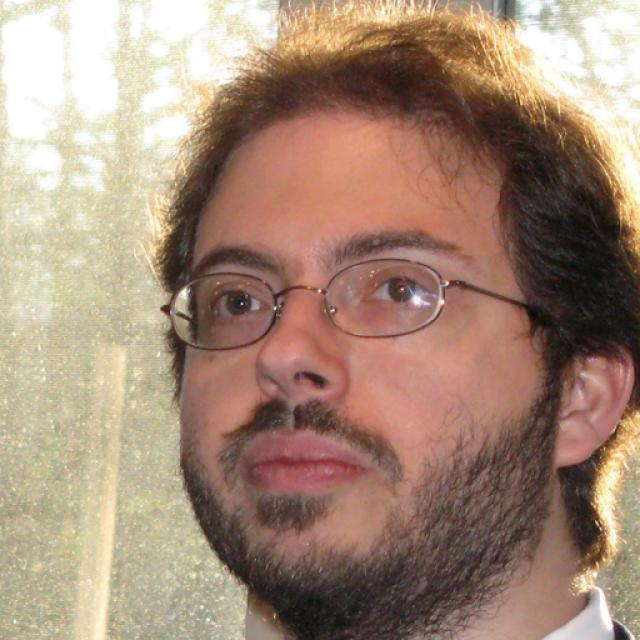neutral: (178, 105, 555, 597)
